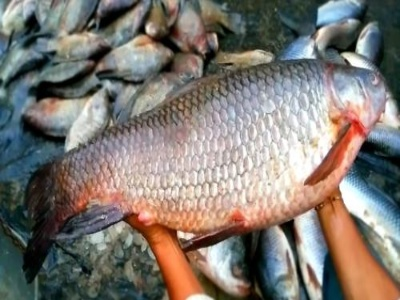rohu: (19, 50, 390, 275)
